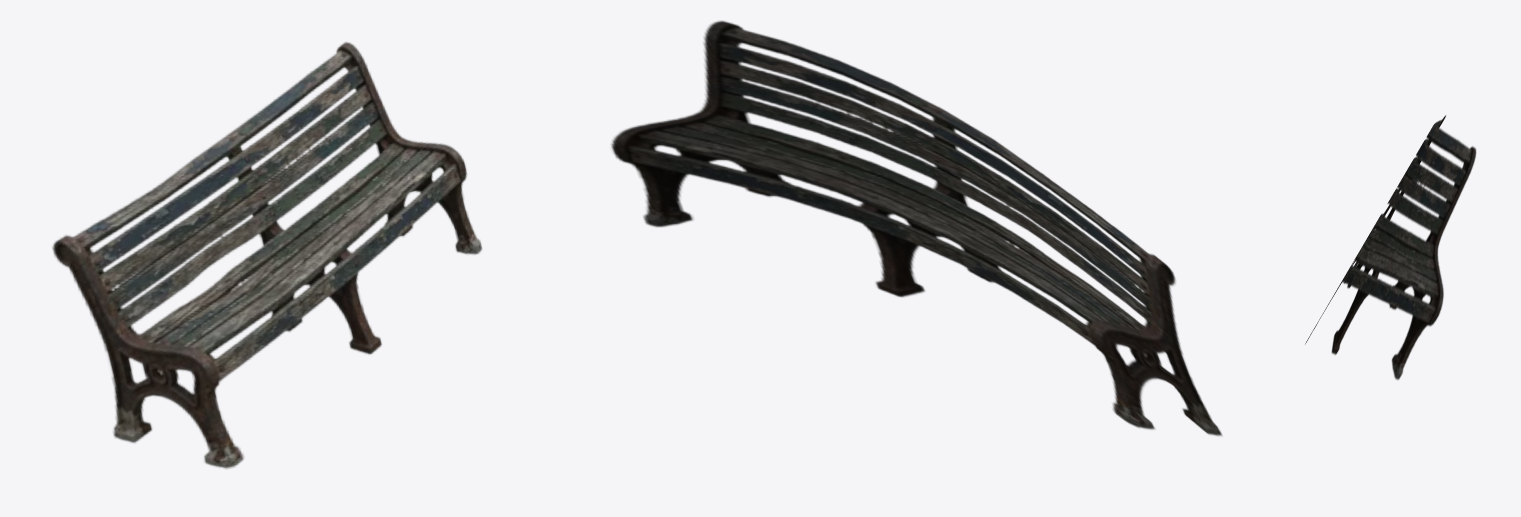
File: courtyard_bench.glb
The picture shows the model from 3 angles, left to right: view 1: azimuth 30°, elevation 25°; view 2: azimuth 150°, elevation 25°; view 3: azimuth 270°, elevation 25°; orthographic projection. The views are drawn at different scales.
Parts seen in each view (by area): view 1: courtyard_bench; view 2: courtyard_bench; view 3: courtyard_bench.
Part boxes in pixels (x1=…): courtyard_bench: x1=52, y1=41, x2=482, y2=468; courtyard_bench: x1=611, y1=20, x2=1222, y2=436; courtyard_bench: x1=1305, y1=115, x2=1476, y2=379.
Size of the model in its own units: 1.8 by 1.39 by 0.8547.
1 material, 1 textured.
